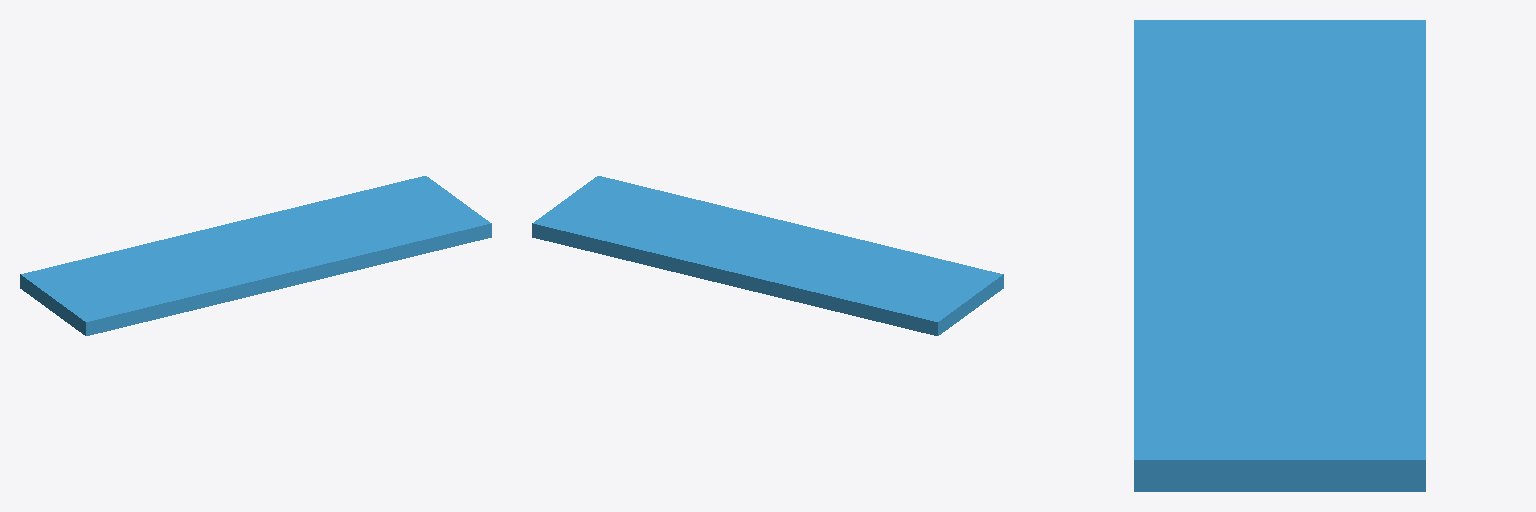
The robot description file, URDF, robot "cylinder_39":
    
    <robot name="cylinder_39">
        <link name="cylinder_39">    
            <fem>
                <origin rpy="0.0 0.0 0.0" xyz="0 0 0" />
                <density value="100" />
                <youngs value="10344"/>
                <poissons value="0.3" />
                <damping value="0.0" />
                <attachDistance value="0.01" />
                <tetmesh filename="[local-path]/sim_data/Custom/Custom_mesh/multi_cylinders_10kPa/cylinder_39.tet" />
                <scale value="0.5"/>
            </fem>
        </link>

        <link name="fix_frame">
            <visual>
                <origin xyz="0.0 0.0 10.064477530631725"/>
                <geometry>
                    <box size="0.15 0.04198186037147714 0.005"/>
                </geometry>
            </visual>
            <collision>
                <origin xyz="0.0 0.0 0.06447753063172552"/>
                <geometry>
                    <box size="0.15 0.04198186037147714 0.005"/>
                </geometry>
            </collision>
            <inertial>
                <mass value="500000"/>
                <inertia ixx="0.05" ixy="0.0" ixz="0.0" iyy="0.05" iyz="0.0" izz="0.05"/>
            </inertial>
        </link>
        
        <joint name = "attach" type = "fixed">
            <origin xyz = "0.0 0.0 0.0" rpy = "0 0 0"/>
            <parent link ="cylinder_39"/>
            <child link = "fix_frame"/>
        </joint>  




    </robot>
    

--- Facts derived from the render (not from the file) ---
The picture shows the robot from 3 angles, left to right: view 1: azimuth 30°, elevation 25°; view 2: azimuth 150°, elevation 25°; view 3: azimuth 270°, elevation 25°; orthographic projection.
Robot: cylinder_39 — 2 links, 1 joints (1 fixed); root link cylinder_39; default pose: every joint at zero.
Visible links, largest first — view 1: fix_frame; view 2: fix_frame; view 3: fix_frame.
Link boxes in pixels (x1,y1,x2,y2): fix_frame: (20, 176, 491, 335); fix_frame: (532, 176, 1003, 335); fix_frame: (1134, 20, 1425, 491).
Size in the robot's own frame: 0.15 by 0.042 by 0.005 metres.
Geometry: primitives only (box / cylinder / sphere), no mesh files.